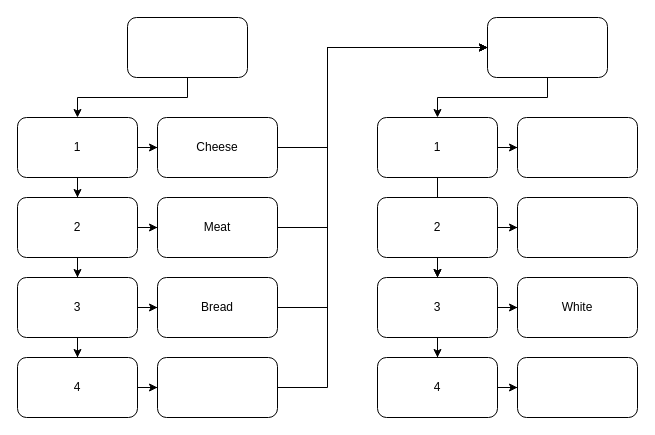
This 655x435 diagram has some shape labels left out. The box of each missing label's shape, as (x1, y1, x2, y2) in pixels:
Brie: (516, 116, 638, 178)
Cake: (156, 356, 278, 418)
Category ID: (126, 16, 248, 78)
Chocolate: (516, 356, 638, 418)
Horse: (516, 196, 638, 258)
Product ID: (486, 16, 608, 78)
